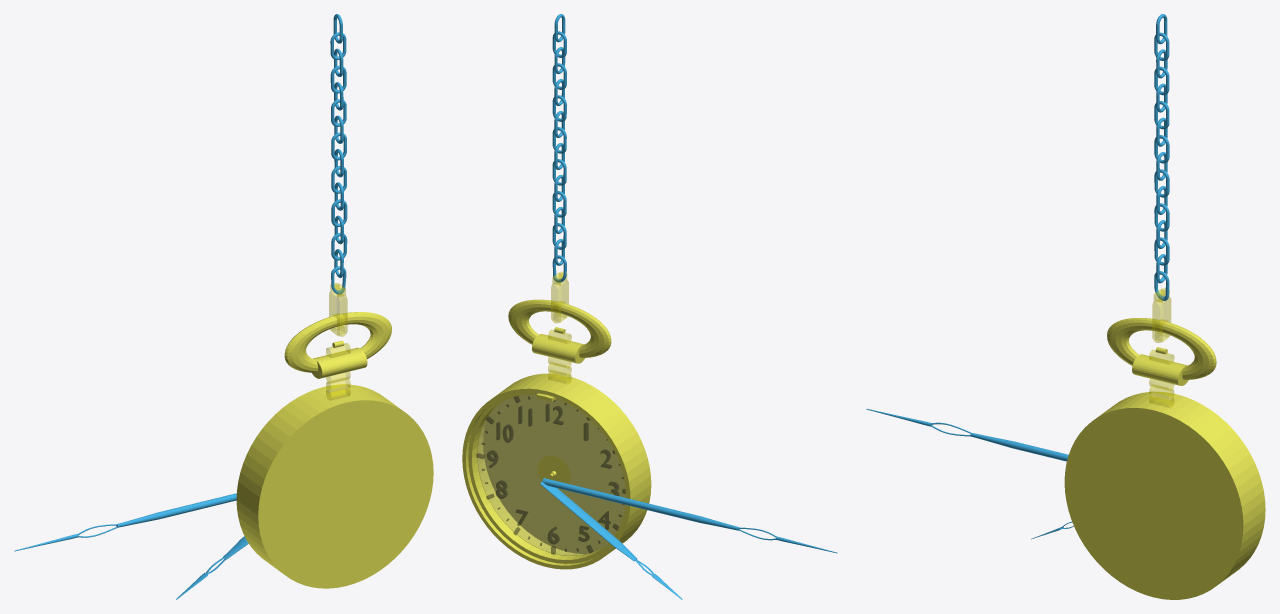
File: kaityu_clock2.fbx
3 renders of one model, left to right at view 1: azimuth 30°, elevation 25°; view 2: azimuth 150°, elevation 25°; view 3: azimuth 330°, elevation 25°, orthographic. The views are drawn at different scales.
Parts seen in each view (by area): view 1: clockMain, kanagu_mid, chaine, stinger, kanagu_bot, kanagu_top; view 2: clockMain, kanagu_mid, chaine, stinger, テキスト.006, stingerlong, kanagu_bot, kanagu_top; view 3: clockMain, kanagu_mid, chaine, stinger, kanagu_bot, kanagu_top.
Part boxes in pixels (x1,y1,x2,y2): clockMain: [236, 384, 433, 588]; kanagu_mid: [284, 312, 391, 378]; chaine: [330, 14, 347, 294]; stinger: [14, 493, 236, 551]; kanagu_bot: [326, 340, 350, 400]; kanagu_top: [329, 283, 347, 336]; clockMain: [462, 373, 651, 569]; kanagu_mid: [508, 299, 611, 363]; chaine: [552, 14, 566, 282]; stinger: [542, 478, 837, 553]; テキスト.006: [487, 404, 618, 544]; stingerlong: [540, 482, 682, 599]; kanagu_bot: [548, 327, 571, 384]; kanagu_top: [551, 272, 568, 322]; clockMain: [1064, 391, 1265, 599]; kanagu_mid: [1107, 318, 1216, 385]; chaine: [1154, 14, 1169, 300]; stinger: [866, 409, 1068, 461]; kanagu_bot: [1149, 347, 1174, 407]; kanagu_top: [1152, 288, 1170, 342].
Bounding box in the file's own units: 450 × 55.65 × 617.
